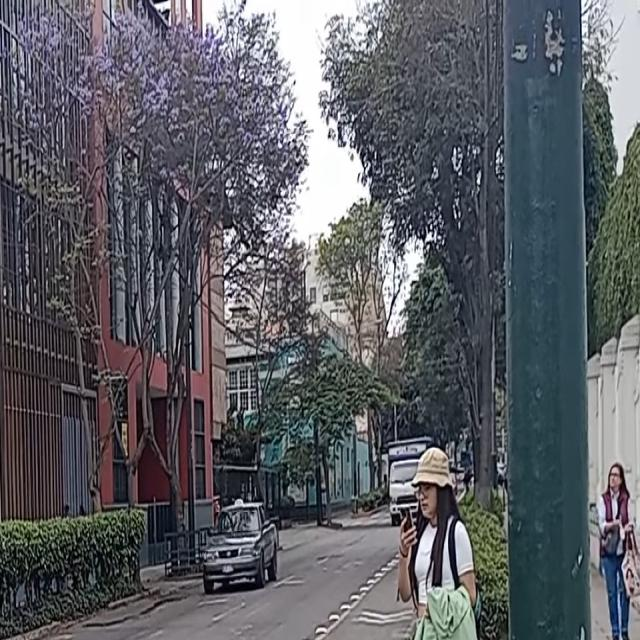car: (202, 504, 278, 587)
truck: (387, 440, 431, 522)
